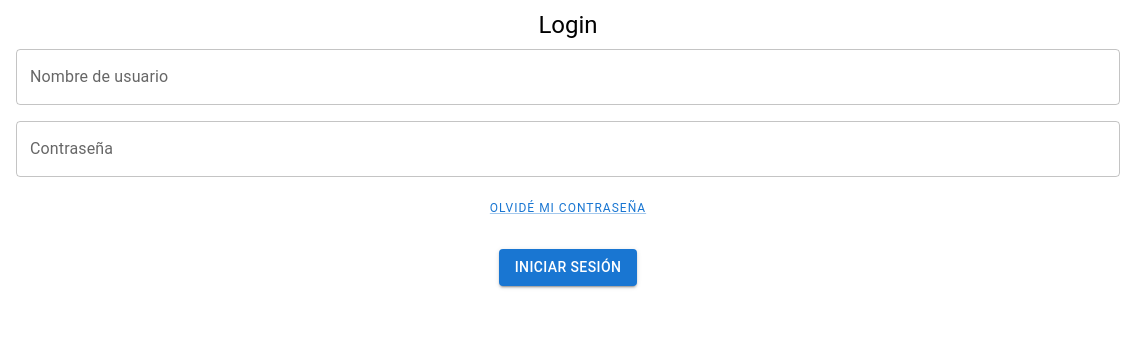
Test: Should display error in form
Click the password field labelled "Contraseña".
click(568, 149)  # box [16,121,1120,177]
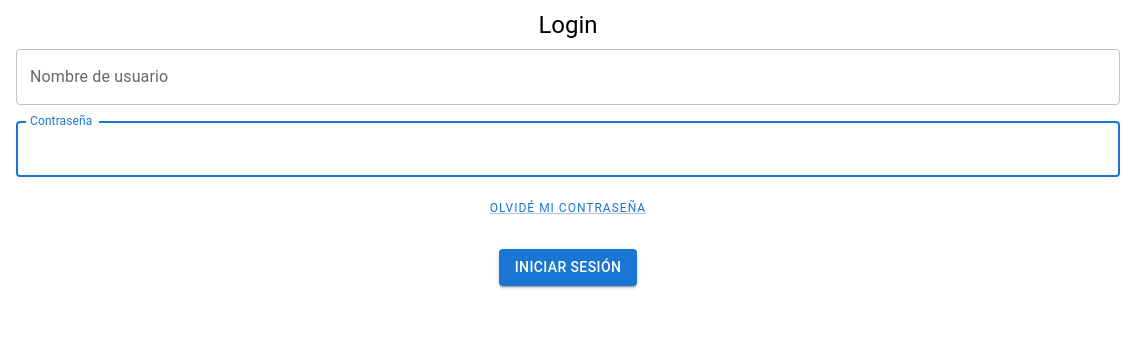
Type keys "a"
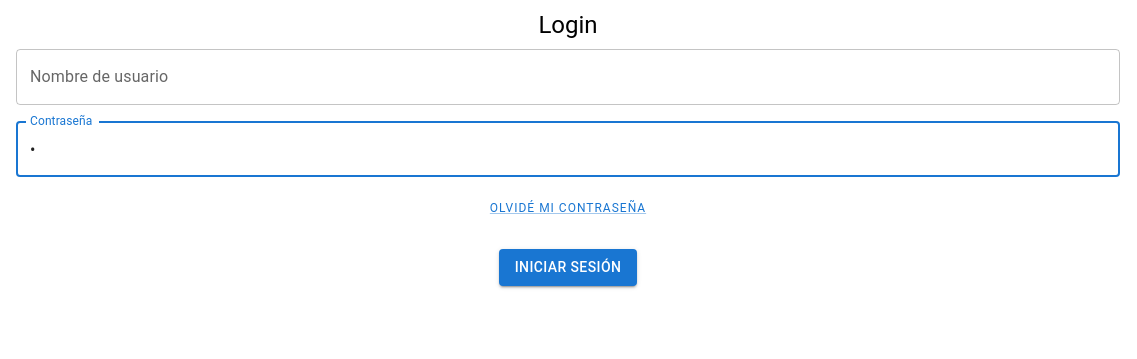
Click the button "Iniciar Sesión".
click(568, 268)  # box [499,249,637,286]
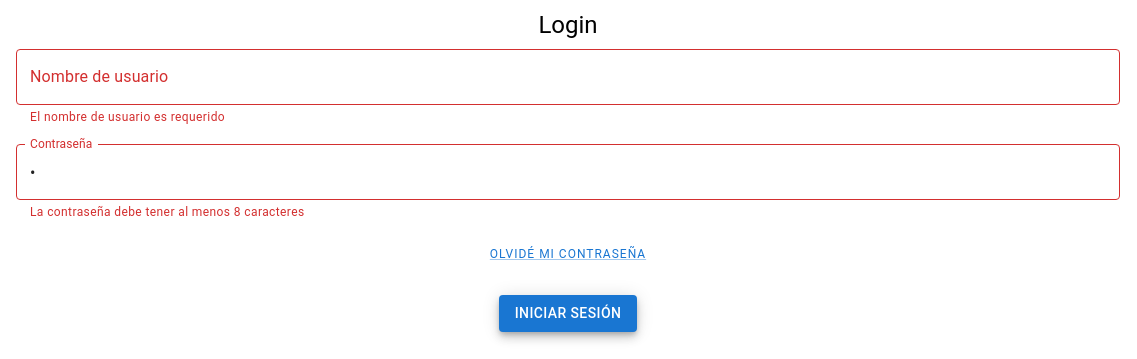
Now the text "La contraseña debe tener al menos 8 caracteres" is shown, box [30,205,304,219]
Now the text "El nombre de usuario es requerido" is shown, box [30,110,225,124]
